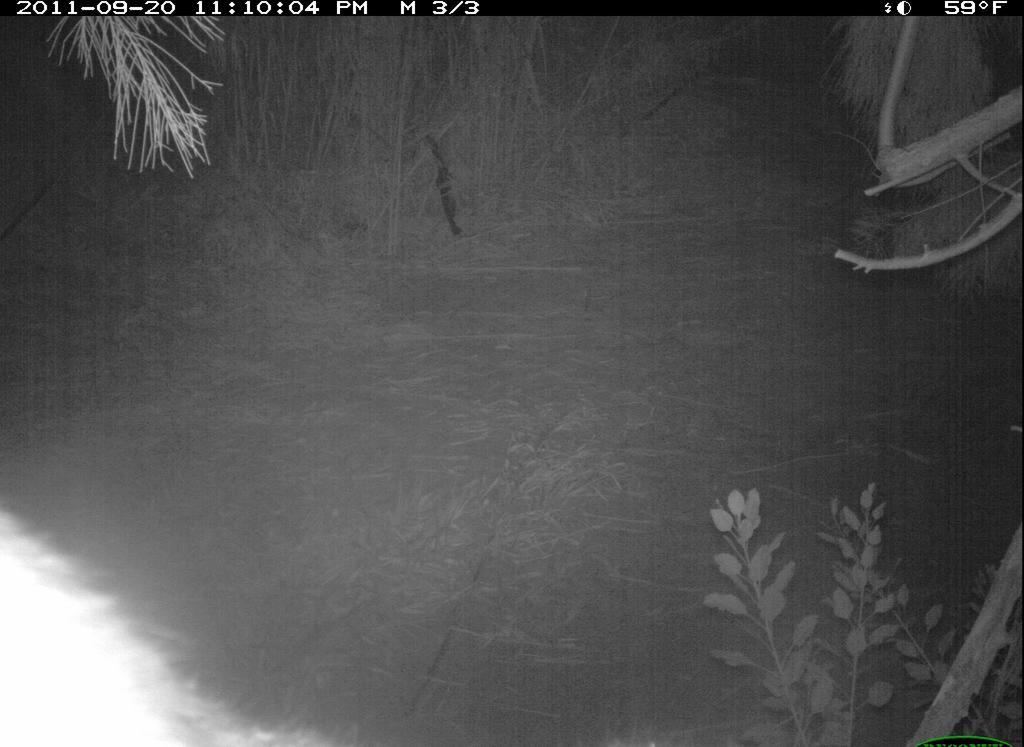raccoon: (6, 504, 351, 747)
